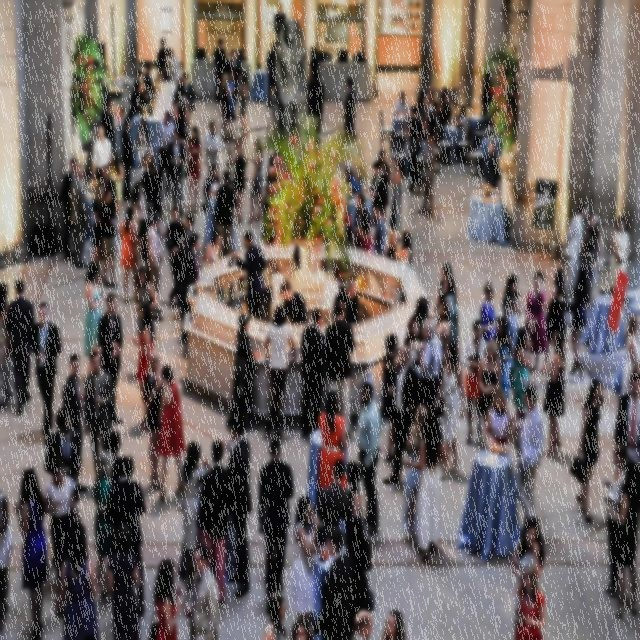pessoa: (402, 407, 450, 564), (104, 452, 148, 620), (41, 456, 84, 616), (12, 463, 50, 639), (256, 436, 295, 600), (306, 523, 361, 639), (222, 410, 255, 600), (566, 376, 606, 526), (173, 440, 213, 584), (196, 438, 230, 607), (382, 342, 422, 485), (27, 299, 64, 447), (600, 440, 634, 600), (52, 529, 100, 639), (607, 459, 639, 622), (271, 17, 308, 154), (288, 495, 327, 624), (262, 302, 298, 441), (322, 296, 357, 438), (433, 338, 467, 482), (224, 310, 264, 432), (353, 379, 383, 539), (512, 384, 546, 523), (155, 362, 188, 504), (3, 277, 36, 415), (61, 352, 89, 505), (106, 522, 142, 639), (414, 84, 468, 162), (82, 348, 114, 478), (43, 406, 84, 506), (537, 328, 568, 459), (401, 402, 429, 546), (460, 318, 490, 447), (518, 268, 549, 392), (416, 316, 446, 444), (288, 606, 407, 638), (91, 446, 115, 604), (183, 540, 221, 639), (97, 290, 124, 426), (228, 230, 268, 321), (300, 306, 327, 438), (538, 264, 569, 376), (130, 299, 156, 431), (317, 389, 350, 492), (510, 516, 547, 606), (132, 264, 160, 380), (560, 200, 589, 312), (564, 264, 592, 380), (146, 556, 185, 639), (82, 258, 109, 376), (141, 347, 163, 491), (510, 325, 534, 452), (177, 230, 202, 346), (380, 331, 402, 462), (68, 163, 94, 270), (612, 372, 640, 470), (513, 562, 548, 639), (117, 203, 143, 304), (164, 203, 188, 310), (144, 209, 166, 324), (318, 456, 346, 546), (432, 261, 459, 351), (579, 212, 604, 309), (260, 152, 286, 244), (0, 280, 17, 413), (478, 337, 503, 427), (213, 170, 238, 260), (136, 200, 162, 284), (154, 107, 178, 198), (200, 162, 222, 261), (482, 386, 514, 454), (60, 156, 80, 264), (182, 124, 205, 217), (404, 102, 426, 195), (165, 127, 187, 218), (100, 187, 119, 289), (494, 316, 516, 404), (416, 130, 438, 218), (0, 487, 13, 635), (607, 216, 631, 296), (442, 272, 460, 378), (138, 156, 166, 224), (340, 129, 367, 197), (230, 137, 249, 226), (620, 312, 639, 398), (386, 154, 404, 244), (246, 136, 264, 226), (306, 68, 326, 146), (278, 278, 310, 325), (368, 160, 390, 228), (106, 147, 124, 230), (90, 180, 104, 286), (435, 299, 452, 385), (91, 122, 114, 184), (94, 164, 118, 222), (120, 117, 136, 203), (225, 47, 243, 122), (479, 278, 499, 345), (331, 276, 360, 322), (343, 460, 364, 522), (220, 70, 237, 144), (393, 228, 413, 290), (202, 120, 224, 176), (181, 70, 199, 138), (262, 593, 288, 639), (403, 316, 424, 371), (504, 292, 522, 354), (235, 68, 250, 142), (352, 192, 372, 247), (212, 37, 228, 105), (342, 75, 357, 147), (99, 96, 117, 155), (134, 115, 154, 168), (354, 207, 376, 255), (126, 82, 150, 126), (264, 38, 278, 111), (140, 58, 157, 117), (173, 89, 188, 148), (501, 272, 519, 318), (372, 203, 387, 257), (204, 226, 224, 266), (484, 140, 500, 190), (479, 66, 494, 118), (227, 68, 240, 125), (130, 181, 148, 221), (165, 47, 183, 86), (272, 1, 288, 44), (384, 228, 402, 263), (308, 44, 320, 92), (377, 148, 392, 186), (156, 36, 170, 76), (181, 212, 199, 242), (172, 76, 189, 107), (393, 90, 411, 118), (132, 68, 146, 101), (138, 152, 151, 184), (412, 294, 429, 316), (402, 315, 412, 337)
